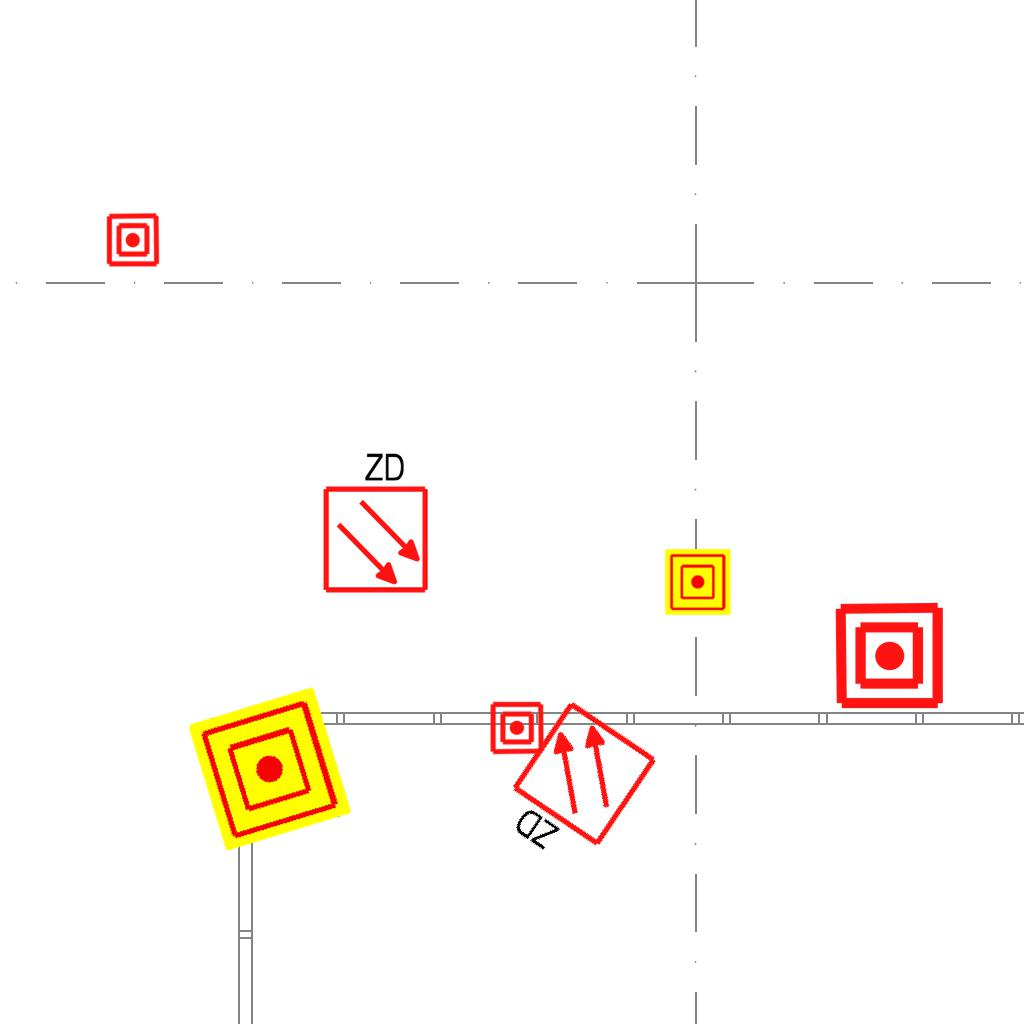NAM-Nichtautomatischer_Melder: (187, 686, 353, 852), (833, 599, 946, 712), (665, 549, 731, 615), (105, 212, 161, 268), (489, 700, 545, 756)
ZD_Melder_in_Zwischendecke_mit_Revisionsoeffnung_mind_40_x_40_cm: (486, 696, 664, 885), (317, 446, 431, 595)
